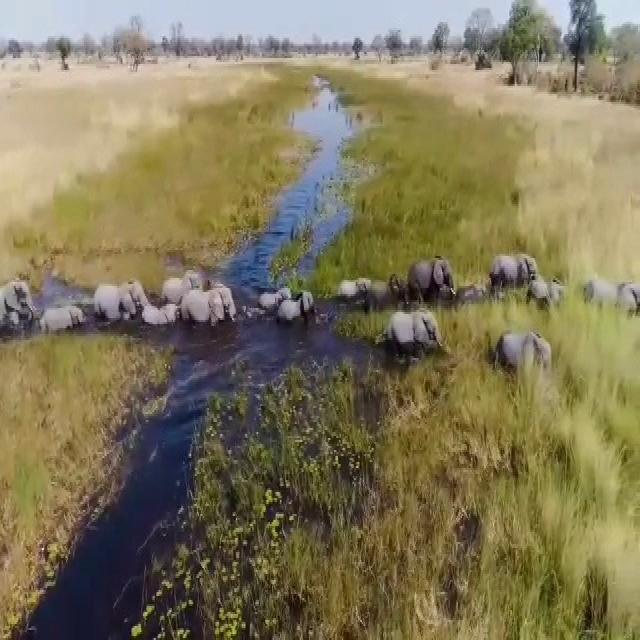Elephant: (494, 328, 564, 388), (390, 308, 438, 377), (412, 239, 455, 314), (176, 289, 242, 337), (589, 270, 640, 317), (93, 282, 143, 329), (490, 253, 536, 299), (30, 308, 83, 347), (0, 280, 31, 332), (277, 288, 312, 333), (347, 268, 391, 303), (260, 272, 290, 313), (140, 296, 176, 325), (531, 280, 565, 306), (159, 274, 204, 293)
